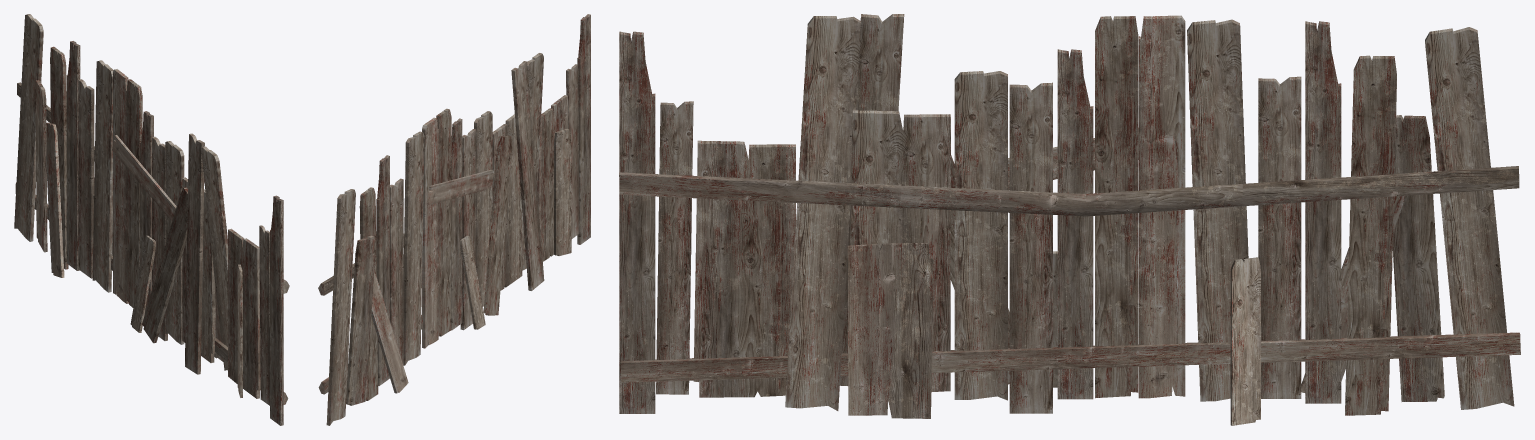
The model's file is Fence2A.fbx.
3 renders of one model, left to right at view 1: azimuth 30°, elevation 25°; view 2: azimuth 150°, elevation 25°; view 3: azimuth 270°, elevation 25°, orthographic. The views are drawn at different scales.
Parts seen in each view (by area): view 1: polySurface541; view 2: polySurface541; view 3: polySurface541.
Boxes of the visible parts, x1=… form: polySurface541: x1=14, y1=14, x2=289, y2=425; polySurface541: x1=318, y1=14, x2=590, y2=425; polySurface541: x1=619, y1=14, x2=1520, y2=425.
Bounding box in the file's own units: 0.5802 × 2.51 × 5.16.
